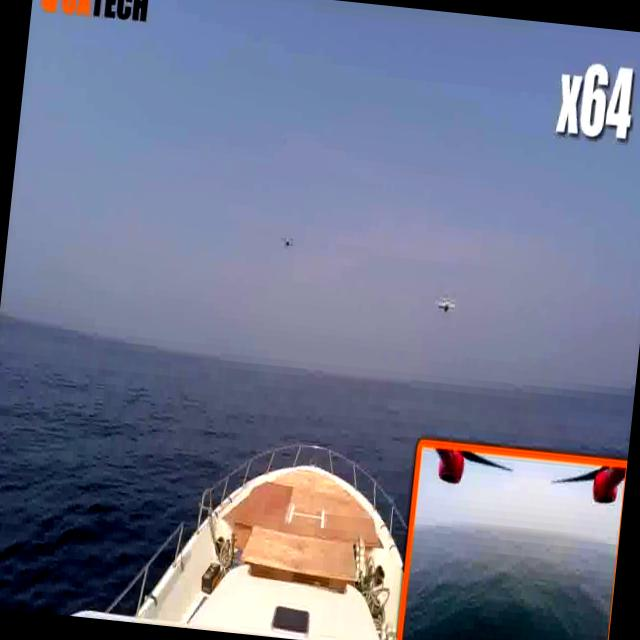drone: (428, 286, 461, 317), (278, 234, 298, 255)
